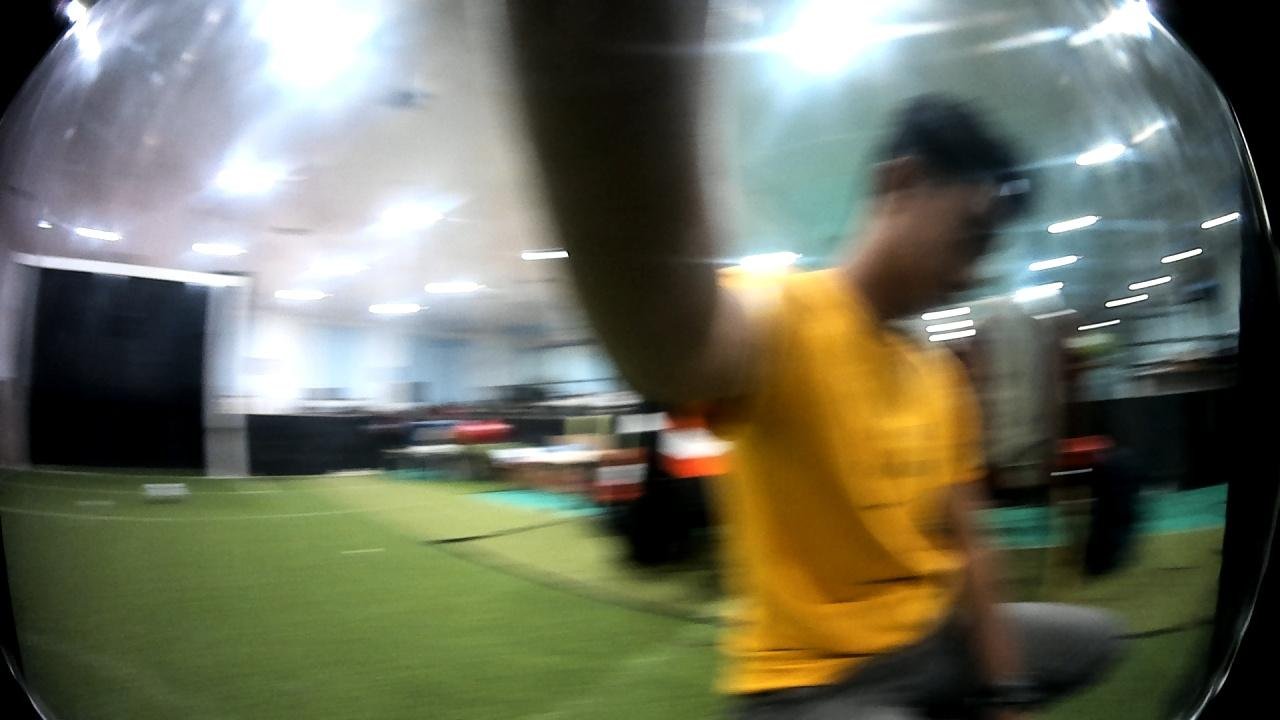ball: (137, 477, 197, 509)
